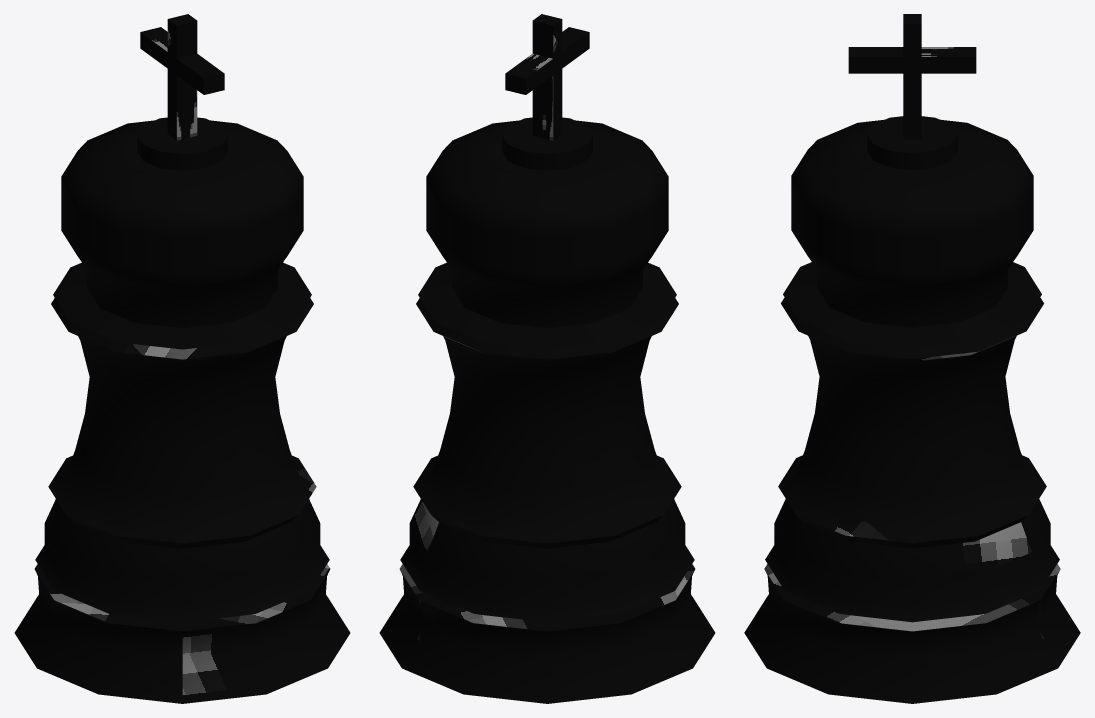
File: Black King.fbx
3 views of the same model, side by side, from view 1: azimuth 30°, elevation 25°; view 2: azimuth 150°, elevation 25°; view 3: azimuth 270°, elevation 25° (orthographic).
Parts seen in each view (by area): view 1: King_Piece:cylinder, King_Piece:cube; view 2: King_Piece:cylinder, King_Piece:cube; view 3: King_Piece:cylinder, King_Piece:cube.
Boxes of the visible parts, x1,y1,x2,y2 form: King_Piece:cylinder: [14, 117, 350, 703]; King_Piece:cube: [140, 14, 224, 140]; King_Piece:cylinder: [379, 117, 715, 703]; King_Piece:cube: [505, 14, 589, 140]; King_Piece:cylinder: [744, 116, 1080, 703]; King_Piece:cube: [848, 14, 976, 139].
Size of the model in its own units: 2.78 by 5.59 by 2.78.
